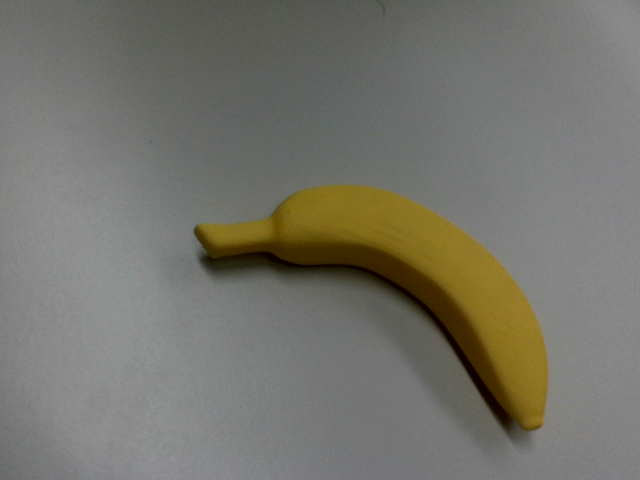banana: (186, 116, 605, 435)
